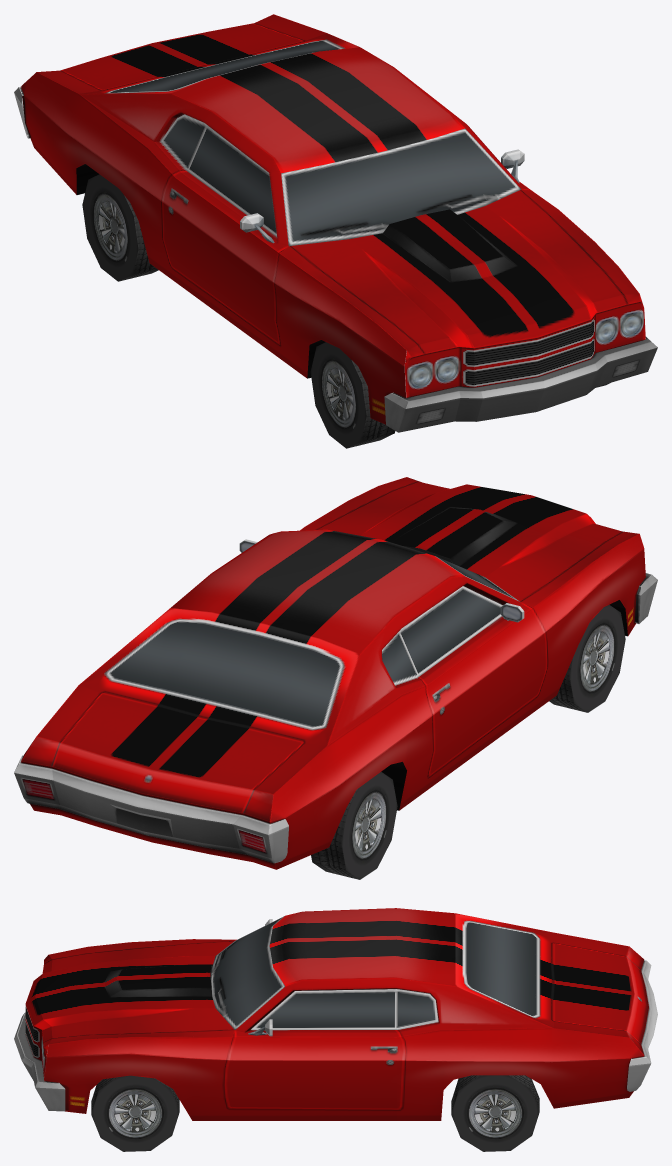
Rendered from ClassicHotRod.fbx.
3 views of the same model, one above another, from view 1: azimuth 30°, elevation 25°; view 2: azimuth 150°, elevation 25°; view 3: azimuth 270°, elevation 25° (orthographic). The views are drawn at different scales.
Visible parts, largest first — view 1: Chassis, FR_Wheel, RR_Wheel; view 2: Chassis, RR_Wheel, FR_Wheel; view 3: Chassis, LR_Wheel, LF_Wheel.
Boxes of the visible parts, <box> form: Chassis: <box>14,14,657,432</box>; FR_Wheel: <box>310,342,395,448</box>; RR_Wheel: <box>82,174,158,281</box>; Chassis: <box>14,477,657,869</box>; RR_Wheel: <box>311,772,397,879</box>; FR_Wheel: <box>549,604,625,712</box>; Chassis: <box>14,908,657,1120</box>; LR_Wheel: <box>451,1075,539,1151</box>; LF_Wheel: <box>91,1075,179,1151</box>.
Size of the model in its own units: 2.07 by 1.46 by 5.19.
2 materials, 2 textured.
